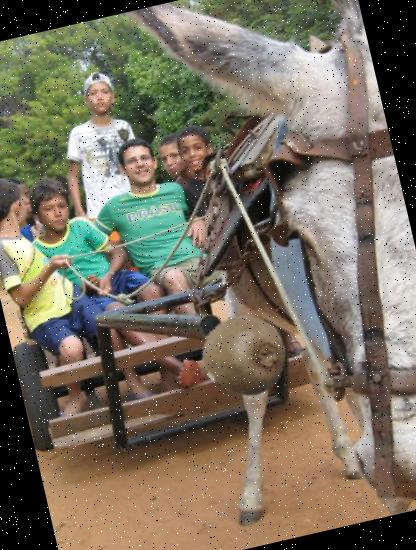Kiwi: (194, 303, 296, 406)
